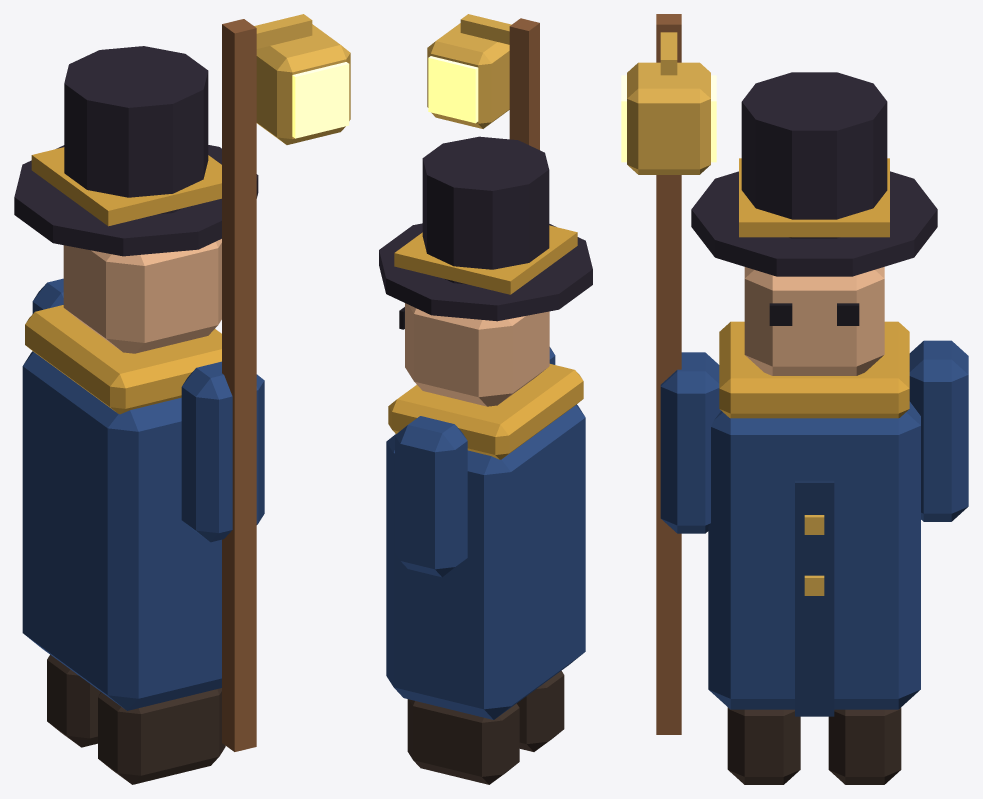
The model's file is lamplighter.glb.
3 views of the same model, side by side, from view 1: azimuth 30°, elevation 25°; view 2: azimuth 150°, elevation 25°; view 3: azimuth 270°, elevation 25° (orthographic). The views are drawn at different scales.
Parts seen in each view (by area): view 1: lamplighter; view 2: lamplighter; view 3: lamplighter.
Boxes of the visible parts, box(x1,y1,x2,y2) form: lamplighter: box(14, 14, 350, 784); lamplighter: box(379, 14, 592, 784); lamplighter: box(621, 14, 968, 784).
Size of the model in its own units: 0.4642 by 1.5 by 0.62.
